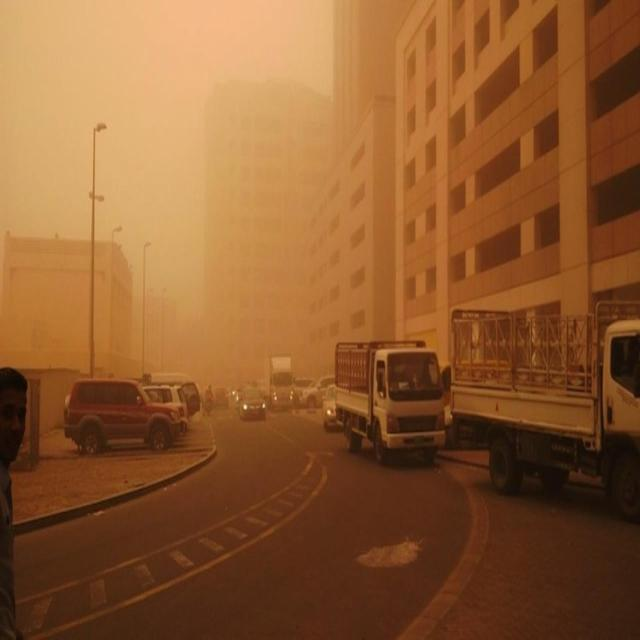Car: (64, 376, 183, 452), (144, 378, 201, 422), (299, 373, 335, 411), (238, 382, 264, 422), (324, 380, 340, 434), (231, 378, 253, 407), (213, 378, 229, 412)
Cycle: (204, 383, 213, 418)
Truck: (450, 280, 640, 524), (327, 329, 444, 462), (262, 337, 296, 419)
